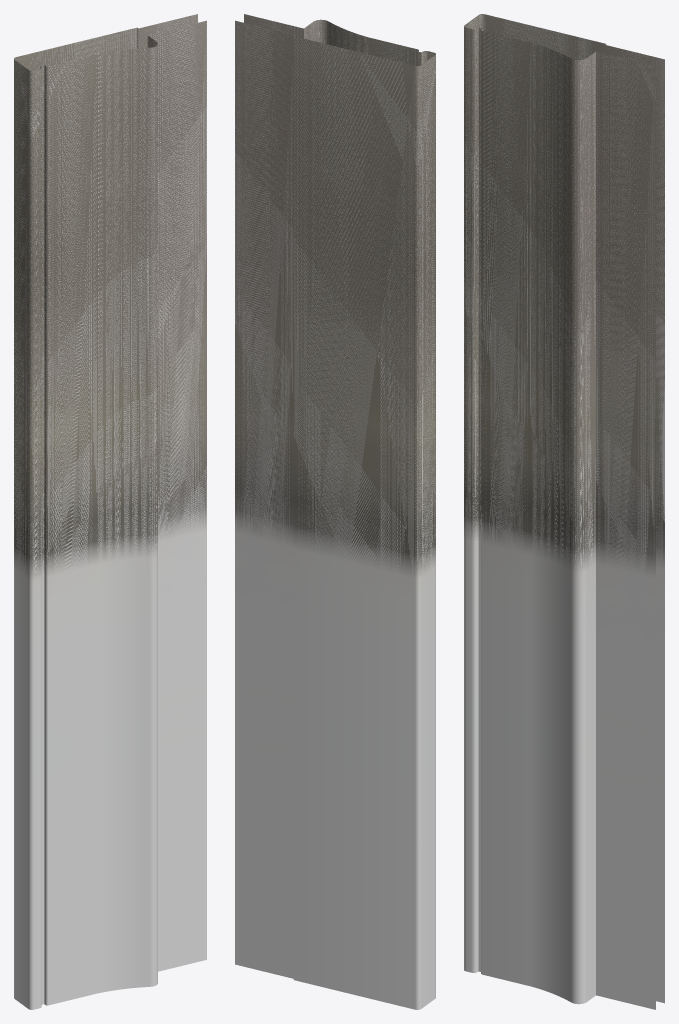
Rendered from original-44.obj.
3 renders of one model, left to right at view 1: azimuth 30°, elevation 25°; view 2: azimuth 150°, elevation 25°; view 3: azimuth 330°, elevation 25°, orthographic.
Visible parts, largest first — view 1: LT_11_CL1/LT_11_CL/mesh34/mesh34-geometry#mesh34-geometry; view 2: LT_11_CL1/LT_11_CL/mesh34/mesh34-geometry#mesh34-geometry; view 3: LT_11_CL1/LT_11_CL/mesh34/mesh34-geometry#mesh34-geometry.
Part boxes in pixels (x1,y1,x2,y2): LT_11_CL1/LT_11_CL/mesh34/mesh34-geometry#mesh34-geometry: [14, 14, 206, 1009]; LT_11_CL1/LT_11_CL/mesh34/mesh34-geometry#mesh34-geometry: [235, 14, 435, 1009]; LT_11_CL1/LT_11_CL/mesh34/mesh34-geometry#mesh34-geometry: [464, 14, 664, 1009].
Bounding box in the file's own units: 0.1245 × 0.6058 × 0.0283.
